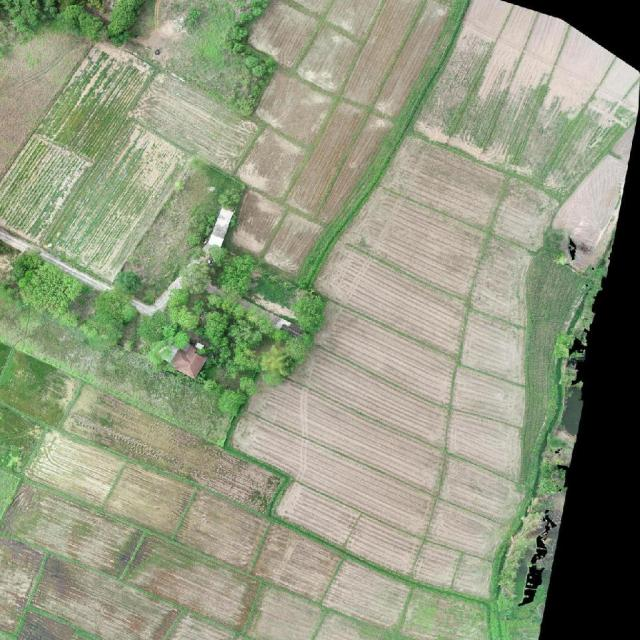agricultural_land: (0, 34, 222, 294), (221, 369, 460, 554), (113, 153, 249, 316), (314, 241, 478, 358), (342, 180, 494, 300), (294, 344, 457, 451), (312, 303, 465, 408), (273, 479, 425, 579), (544, 114, 635, 276), (129, 67, 259, 176), (380, 131, 509, 231), (416, 454, 525, 565), (286, 99, 369, 217), (318, 112, 394, 229), (251, 522, 344, 604), (321, 556, 414, 634), (467, 238, 544, 326), (252, 69, 335, 147), (440, 411, 530, 479), (234, 126, 309, 203), (456, 313, 538, 383), (489, 177, 561, 253), (243, 0, 318, 70), (412, 541, 498, 601), (294, 24, 363, 96), (449, 367, 531, 426), (224, 189, 286, 257), (262, 210, 322, 276)
building: (169, 340, 210, 381)
greenland: (151, 288, 325, 417), (0, 245, 147, 352), (149, 0, 277, 115), (195, 237, 335, 339), (131, 306, 177, 348)
unmetalled_road: (145, 276, 188, 320)
